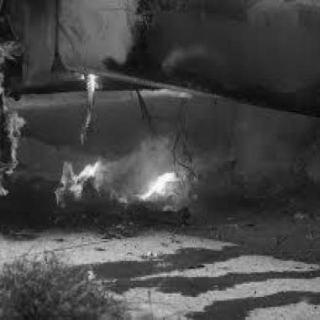Fire: (51, 151, 201, 221), (1, 23, 23, 211)
